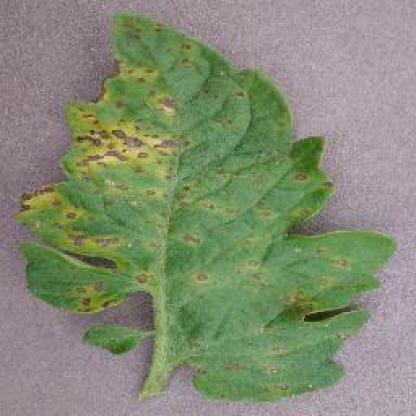bad leaf: (25, 8, 362, 411)
